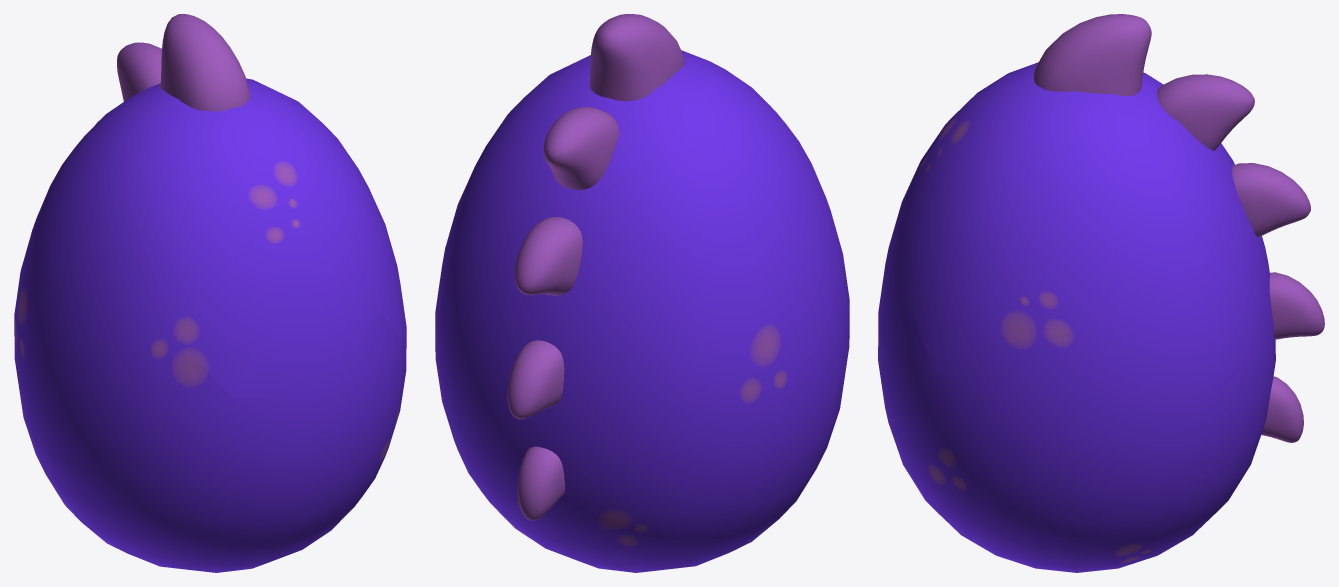
Rendered from egg2.fbx.
3 views of the same model, side by side, from view 1: azimuth 30°, elevation 25°; view 2: azimuth 150°, elevation 25°; view 3: azimuth 270°, elevation 25° (orthographic). The views are drawn at different scales.
Visible parts, largest first — view 1: Cube; view 2: Cube; view 3: Cube.
Boxes of the visible parts, box(x1,y1,x2,y2) form: Cube: box(14, 14, 406, 572); Cube: box(435, 14, 849, 572); Cube: box(878, 14, 1324, 572).
Bounding box in the file's own units: 78.77 × 117 × 88.48.
